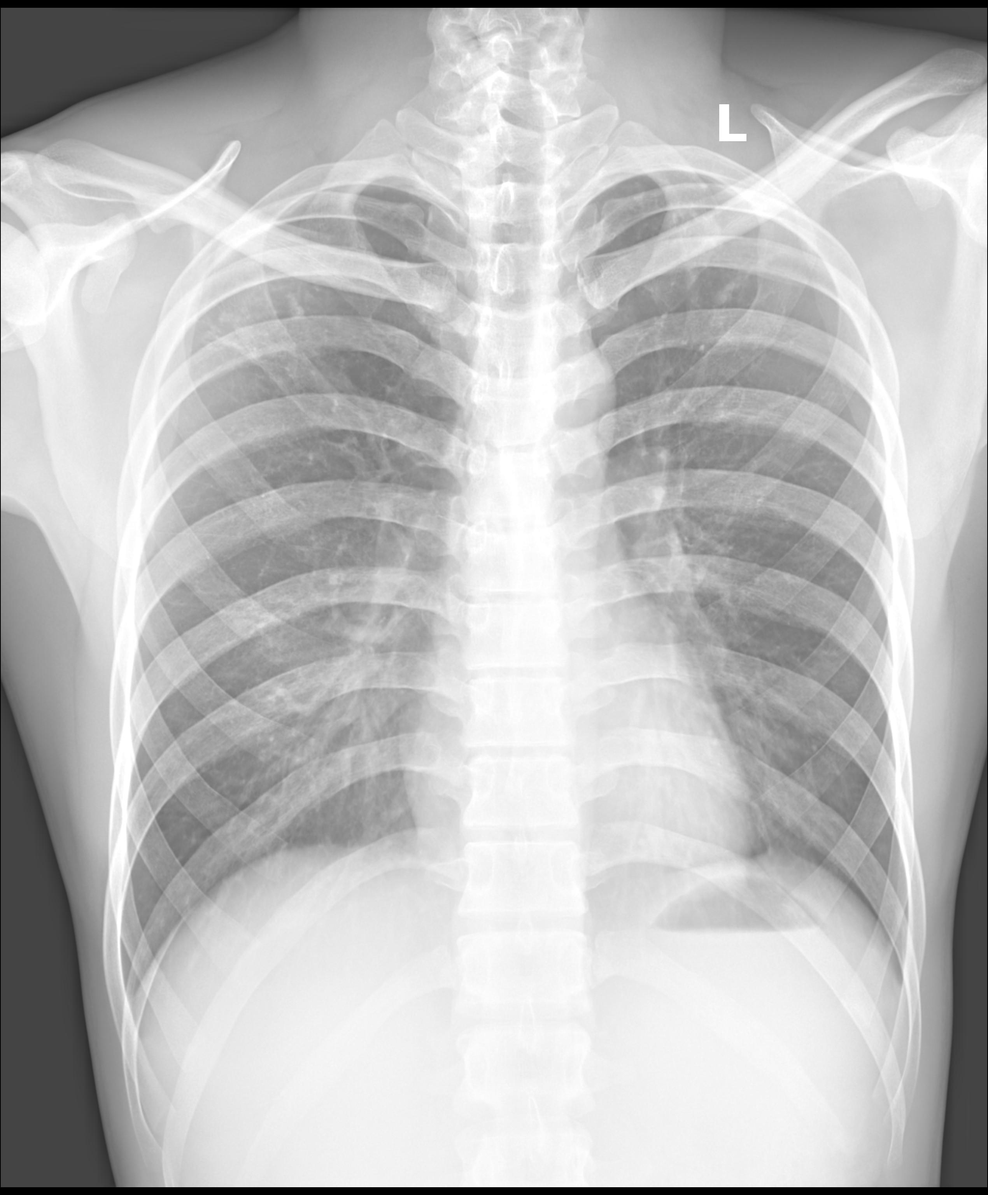Pulmonary fibrosis: (672, 206, 799, 308), (198, 278, 336, 368)
